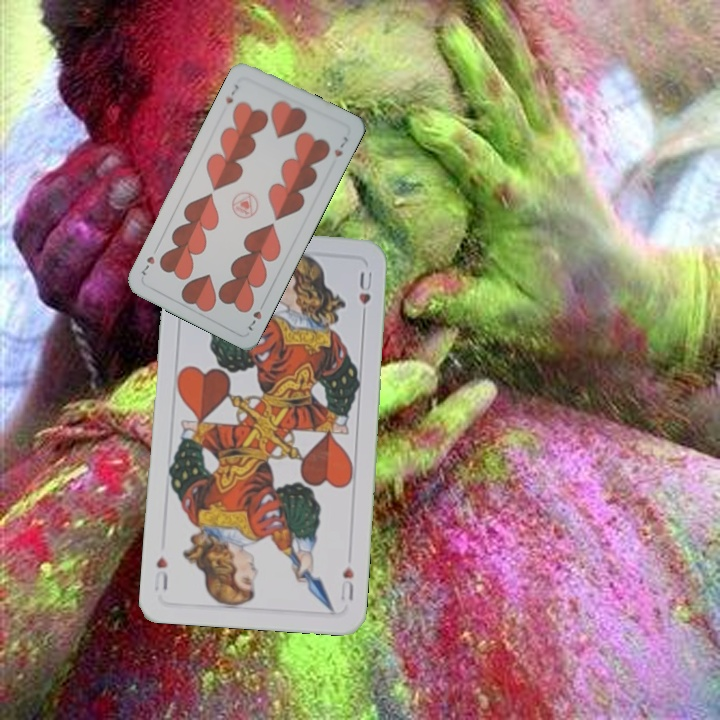H7: (244, 297, 266, 334), (221, 80, 242, 106)
HU: (336, 562, 357, 603)
